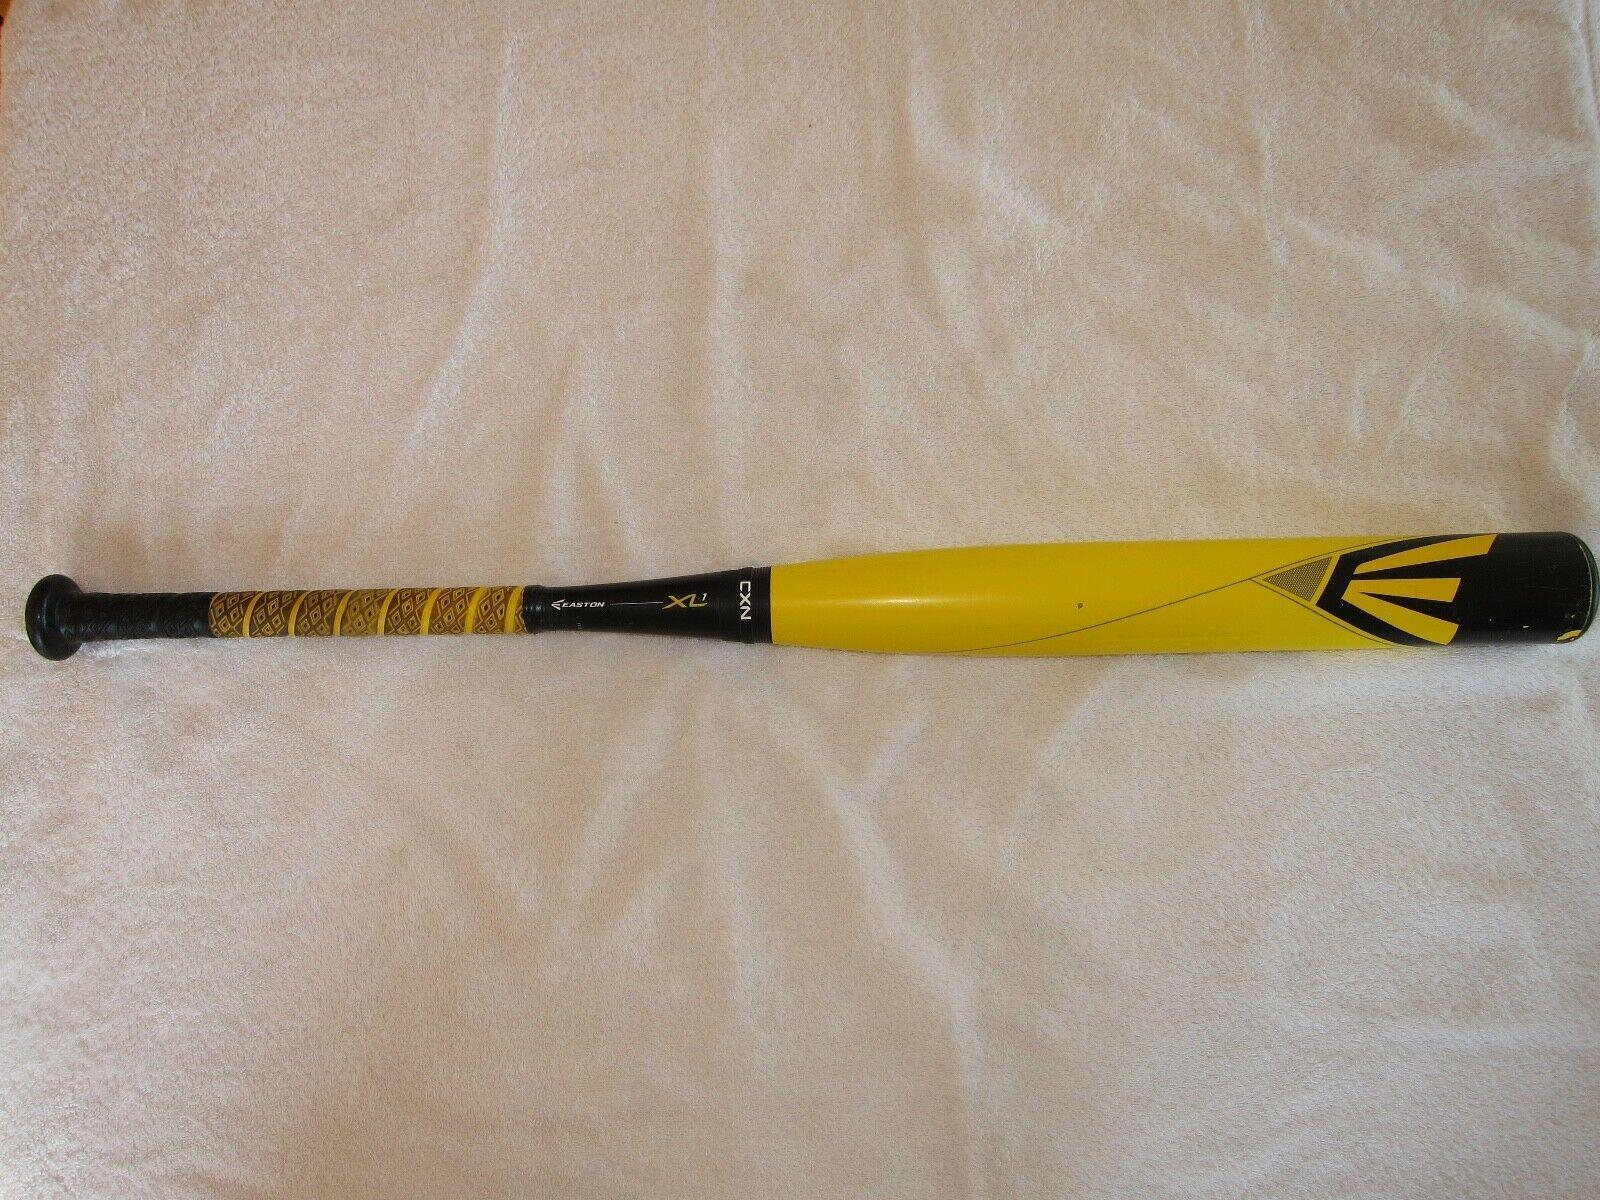Baseball-Bat: (0, 513, 1587, 663)
